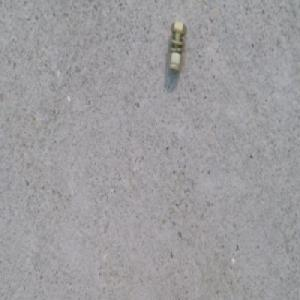BoltNutSet: (165, 21, 188, 71)
